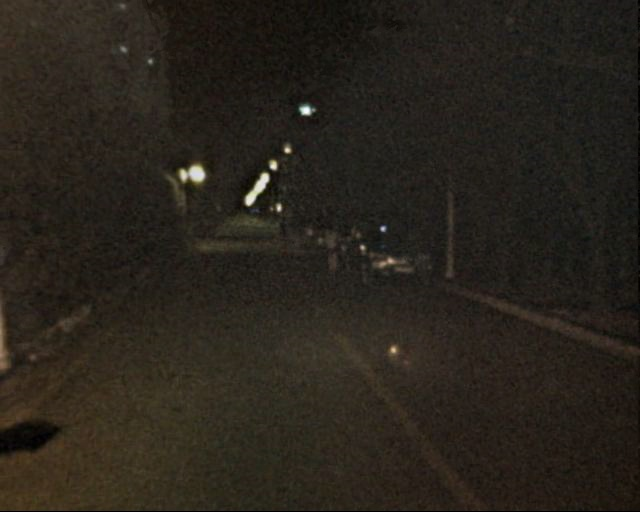person: (1, 240, 36, 441), (323, 219, 345, 273), (287, 215, 301, 249), (279, 222, 288, 244)
